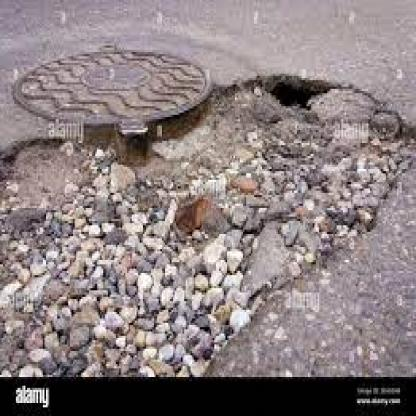open manhole-not overflowing-: (10, 39, 228, 135)
